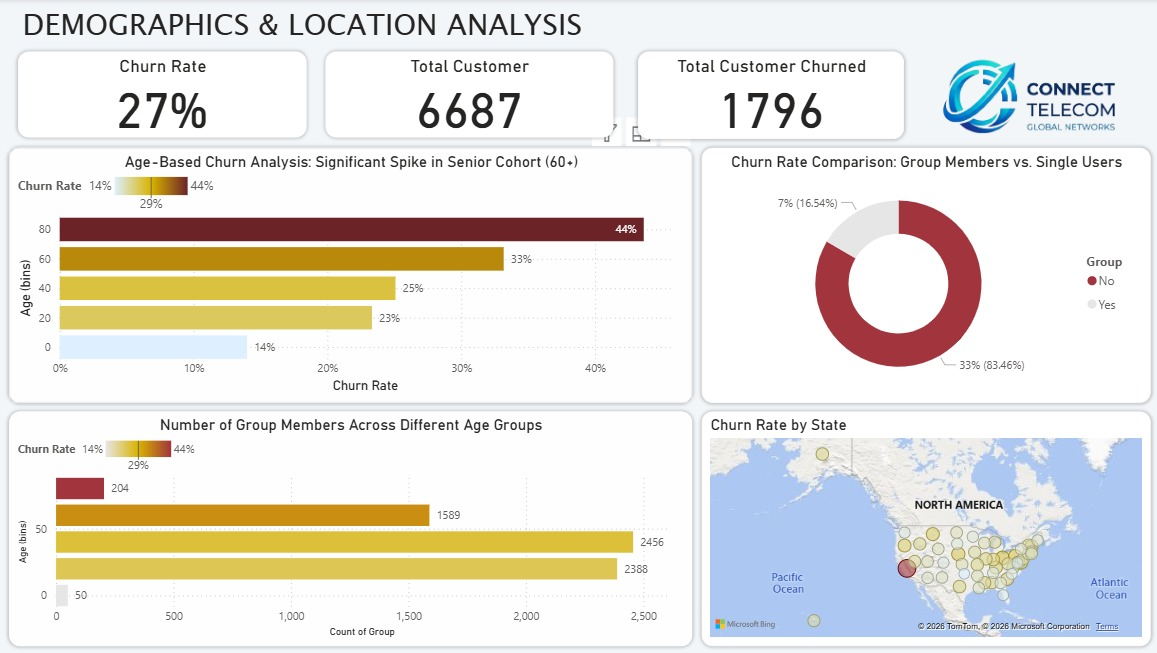

This screenshot's page, from the dashboard's own definition file:
{"tool":"powerbi","page":{"name":"Demographics (Explore & Analysis ) step","canvas":[1280,720],"ordinal":0},"visuals":[{"type":"card","fields":{"Values":["Calculations.Total Customer"]},"box":[328.6,0,244.3,110],"z":0},{"type":"card","fields":{"Values":["Calculations.Total Churned"]},"box":[572.9,0,244.3,110],"z":1000},{"type":"card","fields":{"Values":["Calculations.Churn Rate"]},"box":[880,0,244.3,110],"z":2000},{"type":"lineStackedColumnComboChart","fields":{"Category":["Demographics.Customer Segment"],"Y":["Calculations.Churn Rate"],"Y2":["CountNonNull(Demographics.Group)"]},"box":[21.4,110,508.6,304.3],"z":3000},{"type":"lineClusteredColumnComboChart","fields":{"Category":["Demographics.Age (bins)"],"Y":["Calculations.Churn Rate"],"Y2":["CountNonNull(Demographics.Group)"]},"box":[0,430,817.1,290],"z":4000},{"type":"clusteredColumnChart","fields":{"Category":["Demographics.Group"],"Y":["Calculations.Churn Rate"]},"box":[544.3,100,372.9,304.3],"z":5000},{"type":"pivotTable","fields":{"Values":["Calculations.Churn Rate"],"Rows":["Demographics.Age (bins)"]},"box":[880,535.7,167.1,160],"z":6000},{"type":"pieChart","fields":{"Category":["Demographics.Group"],"Y":["Calculations.Churn Rate"]},"box":[935.7,111.4,307.1,248.6],"z":7000}]}

Visuals, with their boxes in screenshot pixels (x1, y1, x2, y2), scaled from the page's 1280x720 canvas onto the 1157x653 screenshot:
card - Calculations.Total Customer: 297:0:518:100
card - Calculations.Total Churned: 518:0:739:100
card - Calculations.Churn Rate: 795:0:1016:100
lineStackedColumnComboChart - Demographics.Customer Segment x Calculations.Churn Rate: 19:100:479:376
lineClusteredColumnComboChart - Demographics.Age (bins) x Calculations.Churn Rate: 0:390:739:652
clusteredColumnChart - Demographics.Group x Calculations.Churn Rate: 492:91:829:367
pivotTable - Calculations.Churn Rate x Demographics.Age (bins): 795:486:946:631
pieChart - Demographics.Group x Calculations.Churn Rate: 846:101:1123:326
